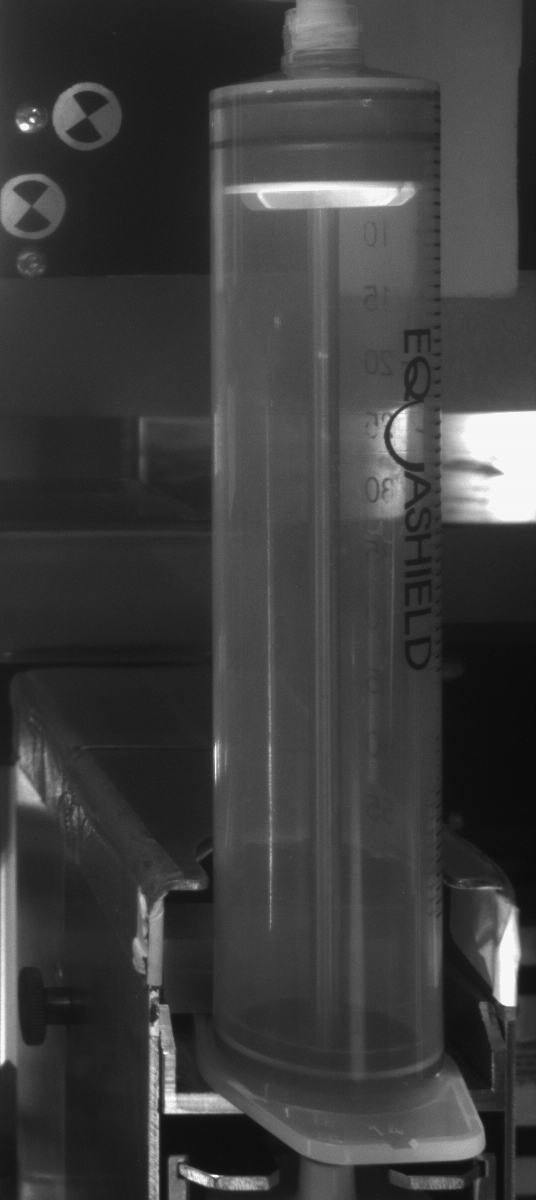piston: (207, 111, 442, 213)
